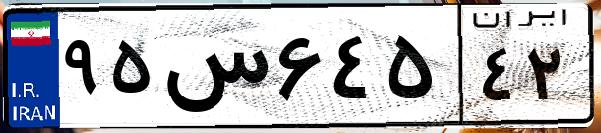2: (525, 38, 570, 115)
4: (330, 28, 385, 110), (475, 38, 525, 113)
5: (385, 28, 445, 110), (110, 28, 158, 98)
6: (270, 28, 330, 110)
9: (57, 26, 110, 100)
س: (158, 20, 270, 120)
